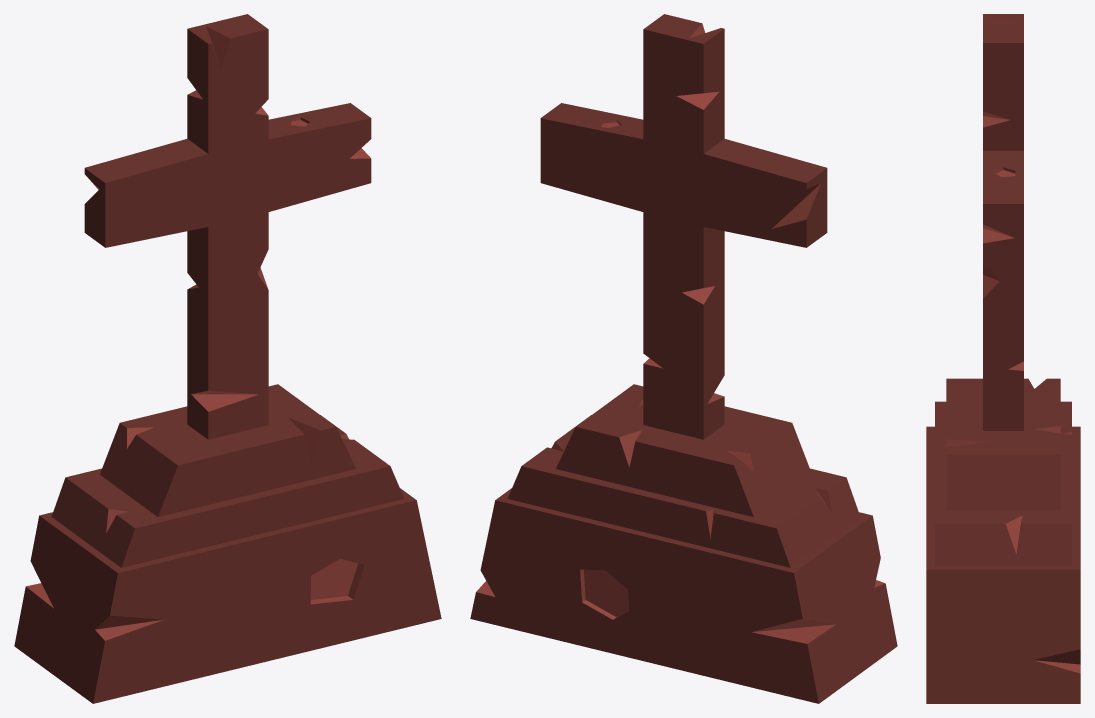
File: Tombstone_4_Red.fbx
The picture shows the model from 3 angles, left to right: view 1: azimuth 30°, elevation 25°; view 2: azimuth 150°, elevation 25°; view 3: azimuth 270°, elevation 25°; orthographic projection.
Visible parts, largest first — view 1: Tombstone_4_Red_Part_1, Tombstone_4_Red_Part_2; view 2: Tombstone_4_Red_Part_1, Tombstone_4_Red_Part_2; view 3: Tombstone_4_Red_Part_1, Tombstone_4_Red_Part_2.
Part boxes in pixels (left/top/right/bottom): Tombstone_4_Red_Part_1: left=14, top=14, right=441, bottom=703; Tombstone_4_Red_Part_2: left=26, top=26, right=370, bottom=640; Tombstone_4_Red_Part_1: left=470, top=14, right=897, bottom=703; Tombstone_4_Red_Part_2: left=476, top=23, right=884, bottom=643; Tombstone_4_Red_Part_1: left=926, top=14, right=1080, bottom=703; Tombstone_4_Red_Part_2: left=946, top=15, right=1080, bottom=673.
Size of the model in its own units: 66.36 by 110 by 25.96.
